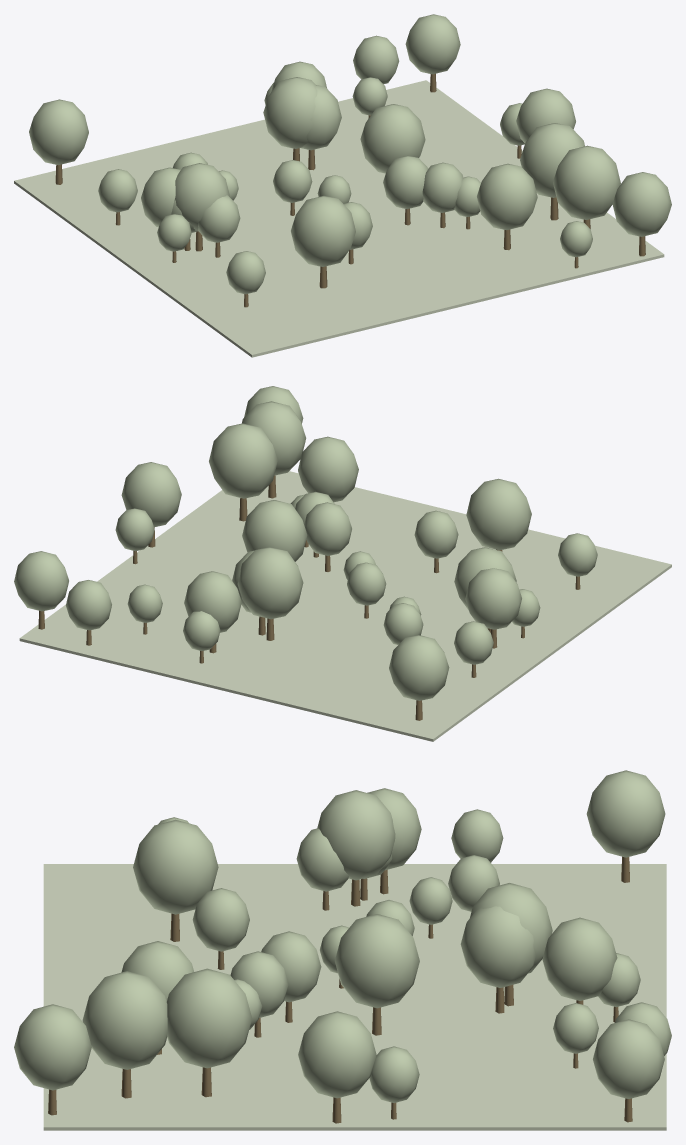
3 views of the same model, one above another, from view 1: azimuth 30°, elevation 25°; view 2: azimuth 150°, elevation 25°; view 3: azimuth 270°, elevation 25° (orthographic). The views are drawn at different scales.
Parts seen in each view (by area): view 1: terrain, lod-near-24, lod-near-22, lod-near-9, lod-near-23, lod-near-6, lod-near-27, lod-near-3, lod-near-28, lod-near-17, lod-near-12, lod-near-26 (+17 smaller); view 2: terrain, lod-near-28, lod-near-3, lod-near-22, lod-near-6, lod-near-23, lod-near-9, lod-near-26, lod-near-25, lod-near-17, lod-near-24, lod-near-1 (+14 smaller); view 3: terrain, lod-near-28, lod-near-24, lod-near-9, lod-near-22, lod-near-6, lod-near-26, lod-near-27, lod-near-12, lod-near-1, lod-near-18, lod-near-17 (+16 smaller).
Boxes of the visible parts, left/top/right/bottom form: terrain: left=14, top=80, right=664, bottom=357; lod-near-24: left=553, top=145, right=620, bottom=219; lod-near-22: left=291, top=195, right=355, bottom=266; lod-near-9: left=360, top=104, right=425, bottom=173; lod-near-23: left=477, top=163, right=537, bottom=230; lod-near-6: left=29, top=99, right=88, bottom=165; lod-near-27: left=612, top=172, right=671, bottom=236; lod-near-3: left=263, top=77, right=317, bottom=148; lod-near-28: left=520, top=123, right=584, bottom=197; lod-near-17: left=405, top=14, right=460, bottom=74; lod-near-12: left=175, top=163, right=230, bottom=230; lod-near-26: left=516, top=88, right=575, bottom=143; terrain: left=19, top=471, right=671, bottom=741; lod-near-28: left=209, top=423, right=277, bottom=498; lod-near-3: left=237, top=547, right=303, bottom=619; lod-near-22: left=466, top=478, right=531, bottom=550; lod-near-6: left=389, top=635, right=449, bottom=700; lod-near-23: left=298, top=436, right=358, bottom=502; lod-near-9: left=242, top=500, right=307, bottom=561; lod-near-26: left=121, top=462, right=181, bottom=527; lod-near-25: left=465, top=568, right=521, bottom=629; lod-near-17: left=14, top=551, right=68, bottom=611; lod-near-24: left=242, top=401, right=306, bottom=475; lod-near-1: left=184, top=571, right=241, bottom=632; terrain: left=43, top=864, right=666, bottom=1130; lod-near-28: left=166, top=968, right=252, bottom=1068; lod-near-24: left=82, top=971, right=167, bottom=1069; lod-near-9: left=335, top=914, right=419, bottom=1008; lod-near-22: left=133, top=819, right=218, bottom=914; lod-near-6: left=586, top=770, right=665, bottom=857; lod-near-26: left=298, top=1011, right=376, bottom=1098; lod-near-27: left=14, top=1004, right=91, bottom=1090; lod-near-12: left=317, top=790, right=395, bottom=880; lod-near-1: left=542, top=917, right=617, bottom=1000; lod-near-18: left=460, top=906, right=535, bottom=987; lod-near-17: left=593, top=1019, right=664, bottom=1098.
Size of the model in its own units: 33.56 by 7.3 by 33.8.
